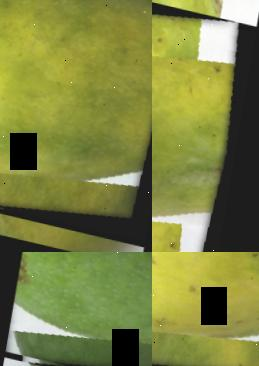PartiallyRipe: (0, 0, 152, 244), (152, 0, 257, 252), (152, 252, 259, 366)
Unripe: (3, 252, 152, 366)
